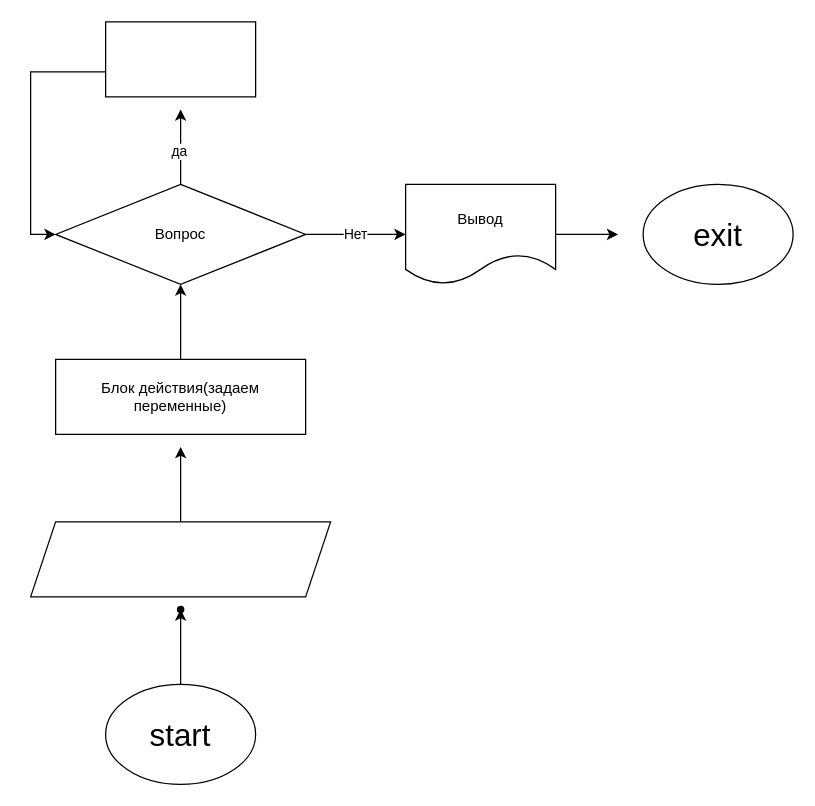
This 815x806 diagram has some shape labels left out. The shapes that lost their labels are listed below. From the top down, each one's box as (x1, y1, x2, y2) in pixels, then its label:
(104, 21, 256, 97): Действие
(29, 521, 331, 597): Данные от пользователя
